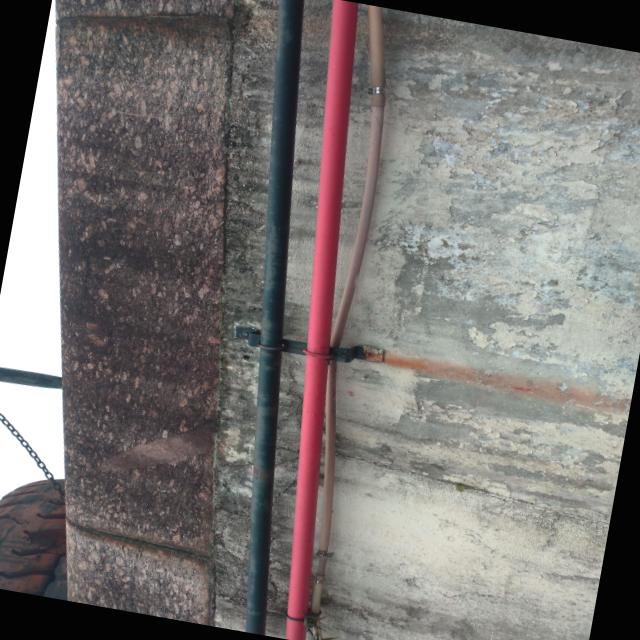gas: (283, 0, 353, 640), (246, 0, 299, 635)
